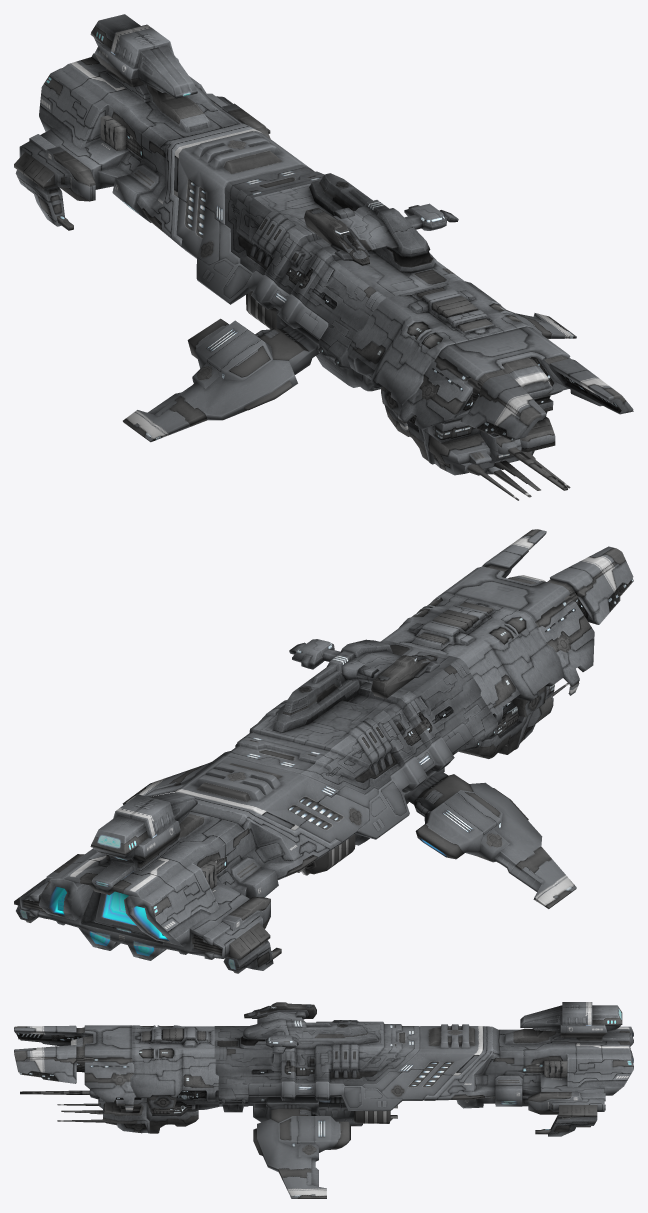
File: 29984_Tengu2132_lite.glb
3 views of the same model, one above another, from view 1: azimuth 30°, elevation 25°; view 2: azimuth 150°, elevation 25°; view 3: azimuth 270°, elevation 25° (orthographic). The views are drawn at different scales.
Parts seen in each view (by area): view 1: csc1_t3_s1v2, csc1_t3_s4v2, csc1_t3_s3v3, csc1_t3_s2v1; view 2: csc1_t3_s4v2, csc1_t3_s2v1, csc1_t3_s1v2, csc1_t3_s3v3; view 3: csc1_t3_s1v2, csc1_t3_s4v2, csc1_t3_s3v3, csc1_t3_s2v1.
Part boxes in pixels (x1,y1,x2,y2): csc1_t3_s1v2: (346,280,633,500); csc1_t3_s4v2: (14,14,270,248); csc1_t3_s3v3: (123,129,576,442); csc1_t3_s2v1: (224,164,464,369); csc1_t3_s4v2: (14,792,341,973); csc1_t3_s2v1: (224,639,497,794); csc1_t3_s1v2: (381,529,633,758); csc1_t3_s3v3: (122,723,576,908); csc1_t3_s1v2: (14,1025,219,1133); csc1_t3_s4v2: (424,1002,633,1136); csc1_t3_s3v3: (248,1024,482,1198); csc1_t3_s2v1: (214,1002,419,1112).
Size of the model in its own units: 2.14 by 0.9223 by 4.17.
Materials: 6 (6 with a texture image).
